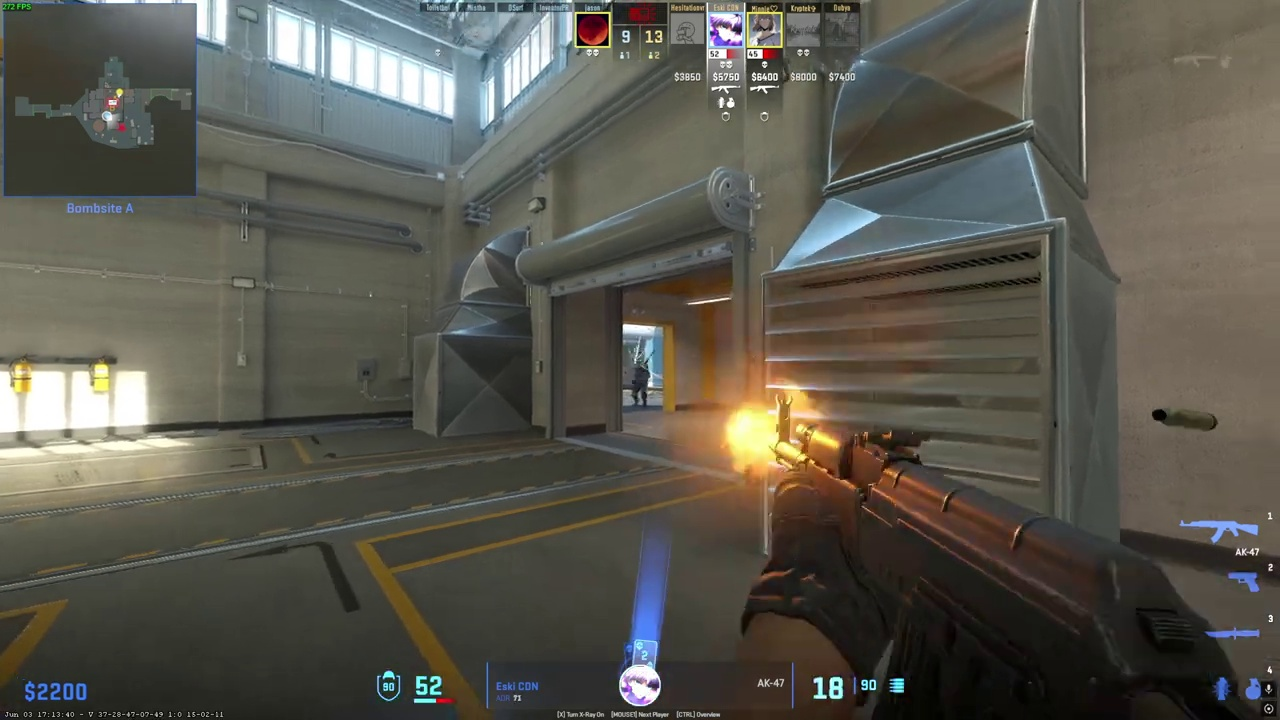CT: (631, 359, 650, 407)
